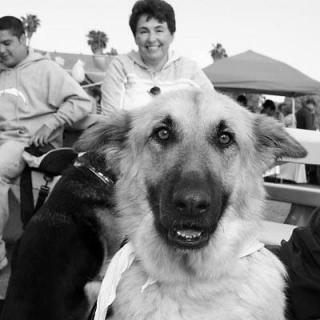dog: (80, 88, 309, 262)
nose: (167, 181, 216, 220)
